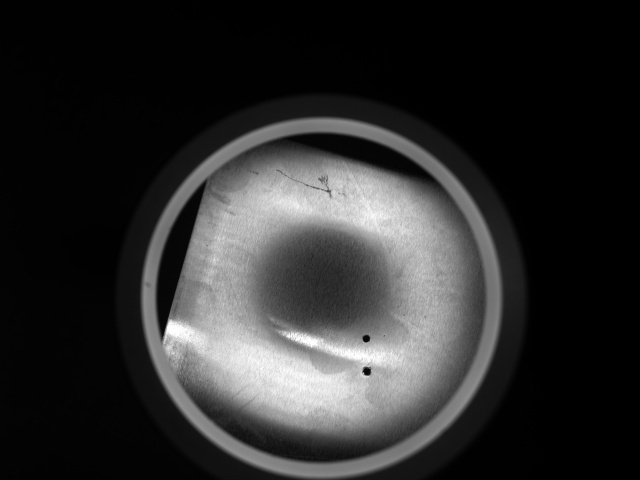ca_shang: (268, 163, 343, 203)
zhen_kong: (359, 362, 375, 380), (359, 333, 372, 344)
